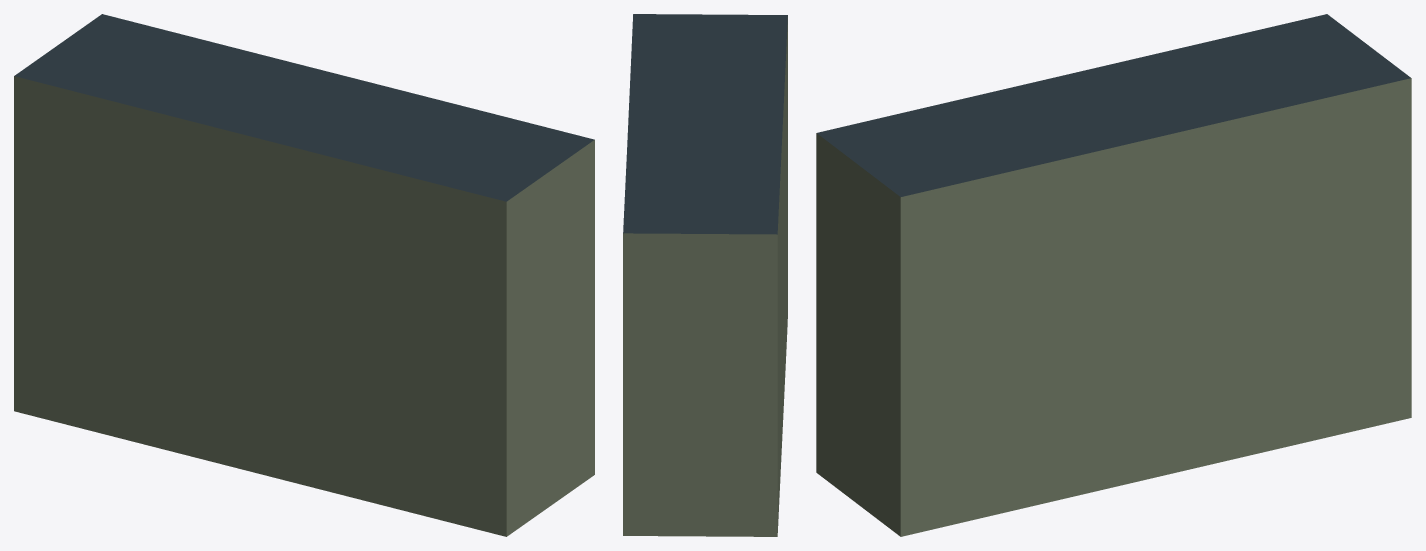
Rendered from nyc-1014483-0.glb.
3 views of the same model, side by side, from view 1: azimuth 30°, elevation 25°; view 2: azimuth 150°, elevation 25°; view 3: azimuth 270°, elevation 25° (orthographic). The views are drawn at different scales.
Parts seen in each view (by area): view 1: nyc-1014483-0; view 2: nyc-1014483-0; view 3: nyc-1014483-0.
Boxes of the visible parts, box(x1,y1,x2,y2) form: nyc-1014483-0: box(14, 14, 594, 536); nyc-1014483-0: box(623, 14, 787, 536); nyc-1014483-0: box(816, 14, 1411, 536).
Bounding box in the file's own units: 18.77 × 16.23 × 25.76.
